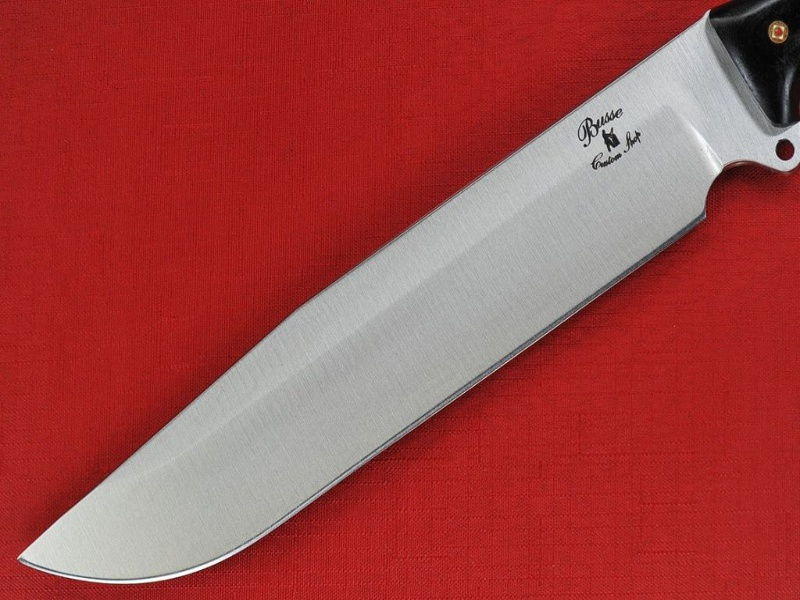knife: (5, 8, 800, 594)
